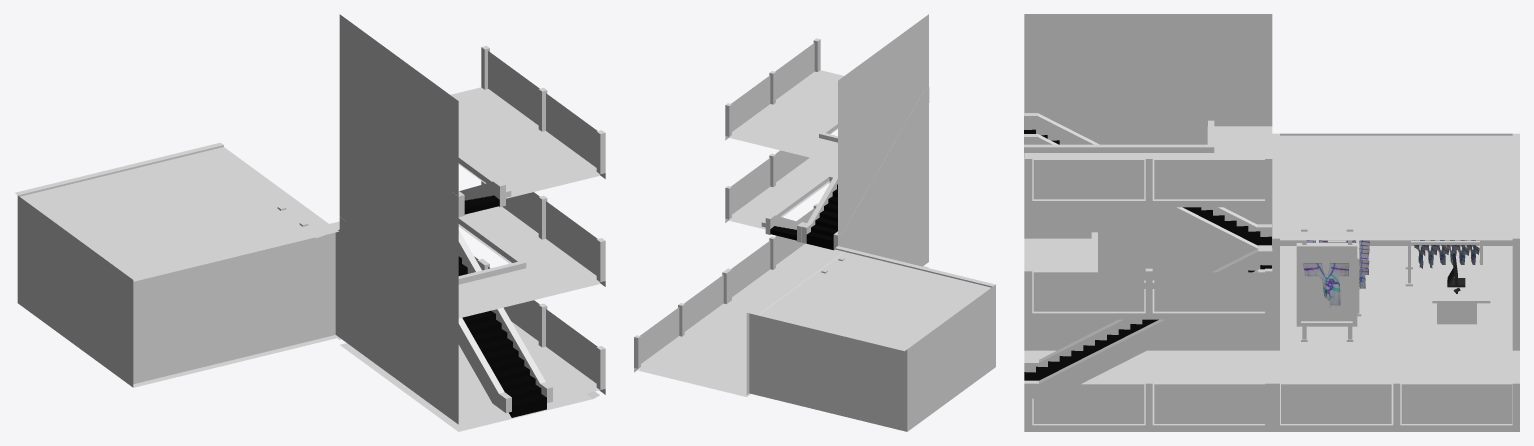
Rendered from Shopping.fbx.
The picture shows the model from 3 angles, left to right: view 1: azimuth 30°, elevation 25°; view 2: azimuth 150°, elevation 25°; view 3: azimuth 270°, elevation 25°; orthographic projection. The views are drawn at different scales.
Parts seen in each view (by area): view 1: Plane.002, Store.016, Plane.006, Plane.008; view 2: Store.016, Plane.002, Plane.006, Plane.001, Plane.011; view 3: Plane.002, Store.016, Plane.006, Plane.001, Plane.015, cloth, Plane.008, Plane.011.
Boxes of the visible parts, x1=… form: Plane.002: x1=339, y1=14, x2=605, y2=431; Store.016: x1=15, y1=142, x2=486, y2=387; Plane.006: x1=488, y1=51, x2=597, y2=383; Plane.008: x1=458, y1=256, x2=546, y2=417; Store.016: x1=634, y1=246, x2=995, y2=431; Plane.002: x1=725, y1=14, x2=929, y2=308; Plane.006: x1=731, y1=43, x2=814, y2=296; Plane.001: x1=640, y1=275, x2=723, y2=363; Plane.011: x1=806, y1=184, x2=837, y2=250; Plane.002: x1=1024, y1=14, x2=1272, y2=431; Store.016: x1=1272, y1=133, x2=1519, y2=431; Plane.006: x1=1033, y1=160, x2=1264, y2=423; Plane.001: x1=1281, y1=384, x2=1512, y2=423; Plane.015: x1=1301, y1=250, x2=1352, y2=321; cloth: x1=1302, y1=240, x2=1479, y2=307; Plane.008: x1=1024, y1=265, x2=1271, y2=380; Plane.011: x1=1024, y1=129, x2=1271, y2=245.
Size of the model in its own units: 343 by 307 by 400.
